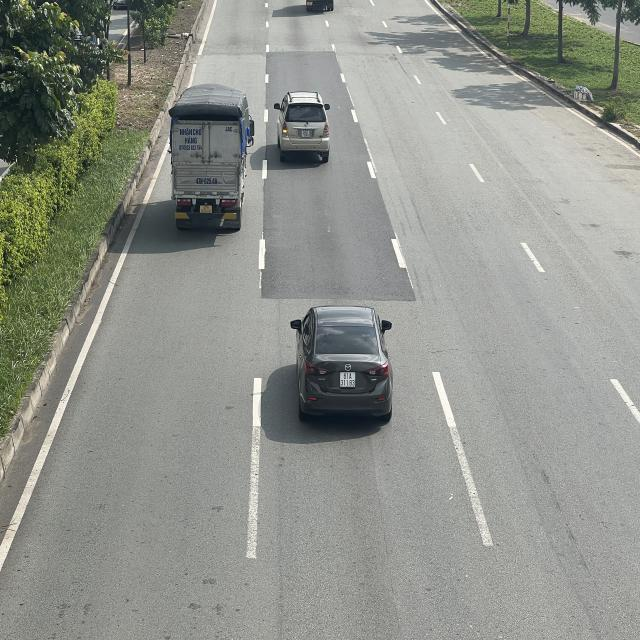car: (290, 304, 394, 423), (274, 93, 330, 164)
truck: (169, 83, 254, 228)
